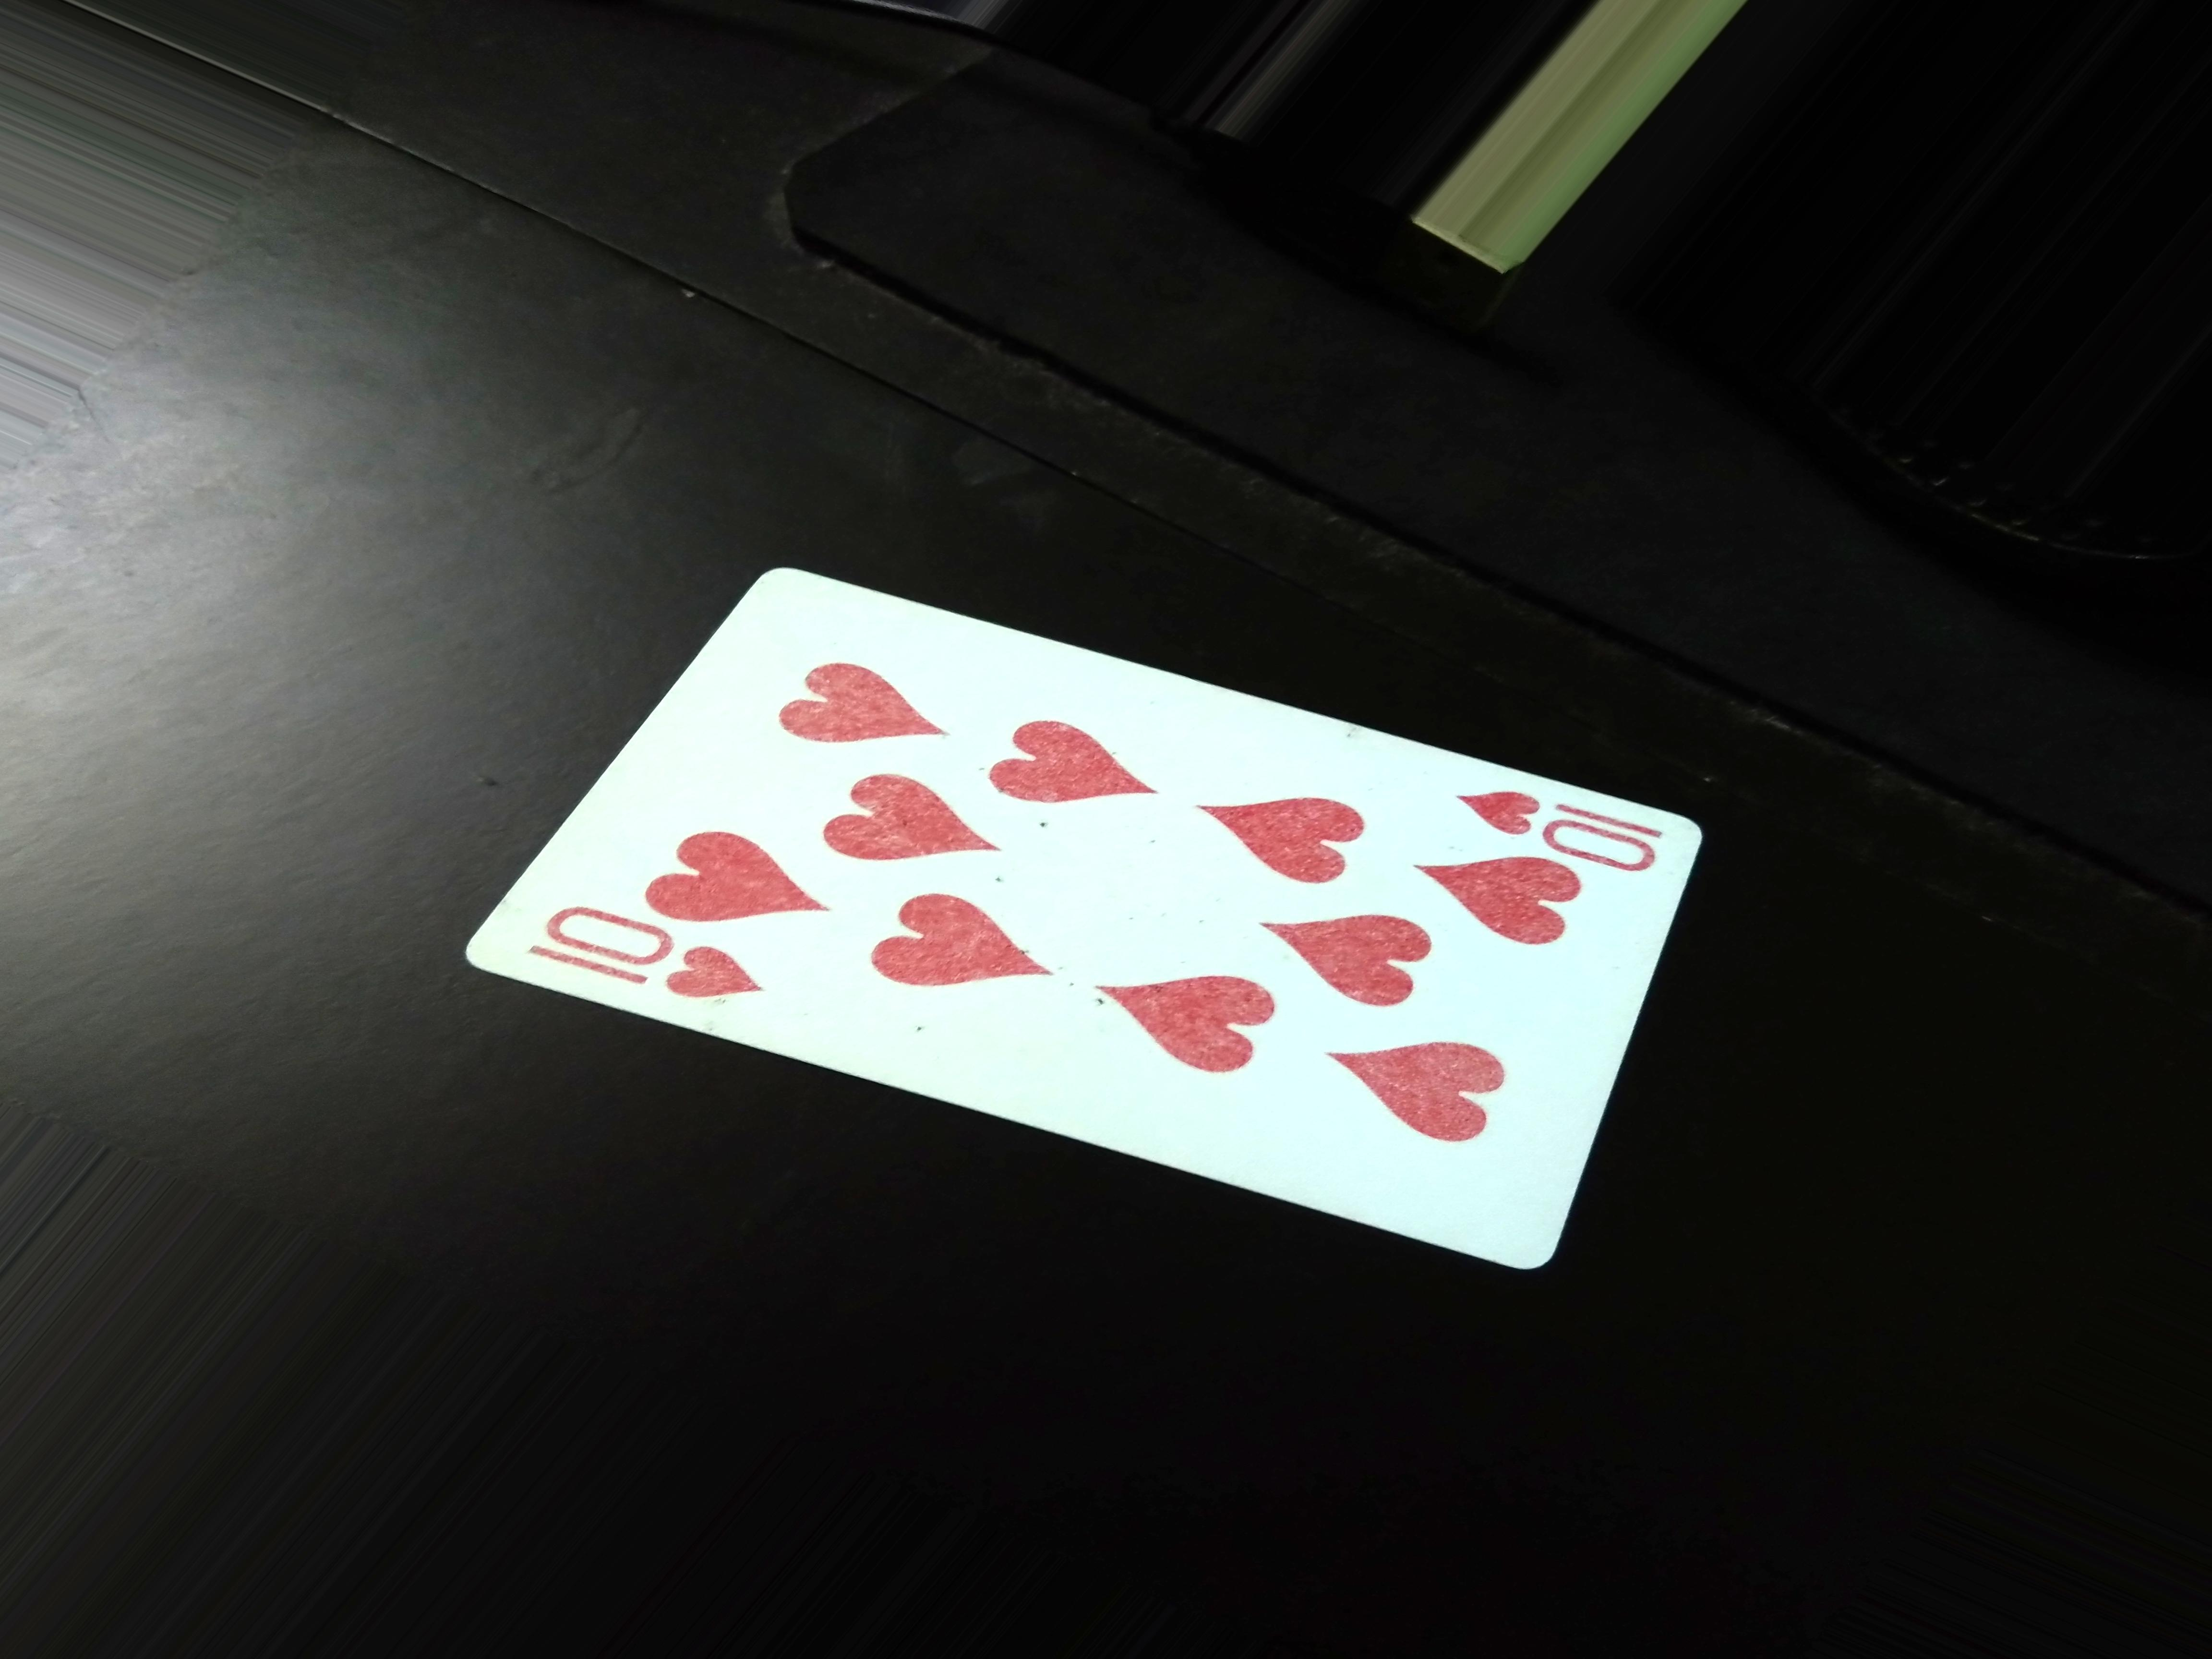10H: (528, 896, 792, 1021)
